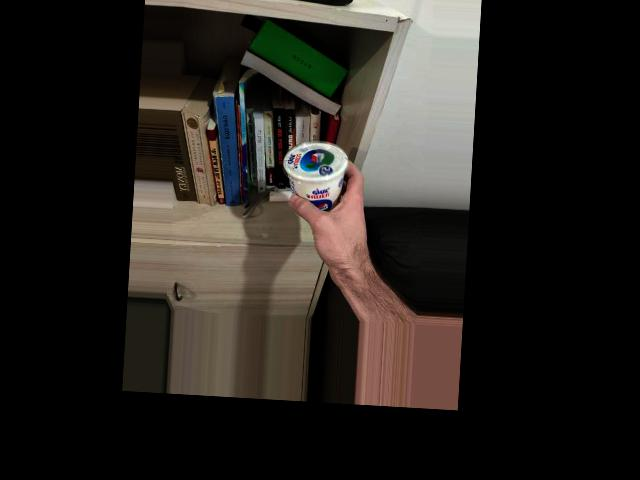cotage: (279, 134, 355, 222)
